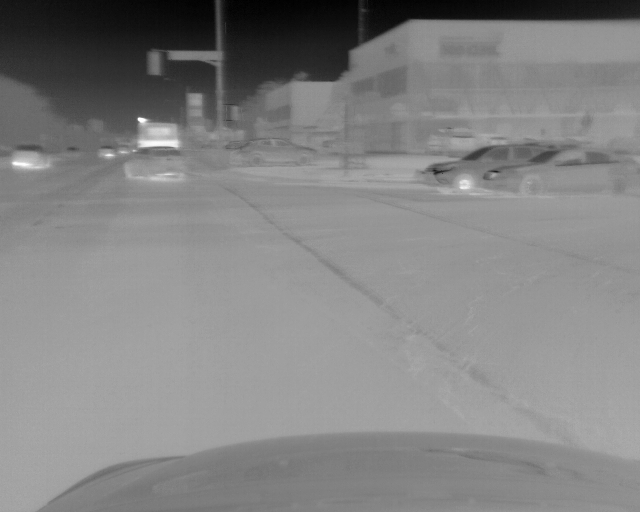car: (487, 144, 639, 197), (421, 142, 553, 193), (231, 138, 316, 166), (122, 146, 184, 181), (136, 121, 179, 154), (10, 144, 49, 173), (96, 145, 113, 161), (116, 142, 131, 157)
